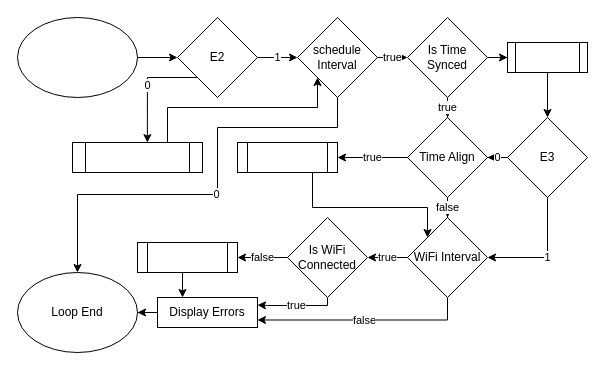
Some shapes in this 605 by 370 pixel diagram are drawn without their labels. Each missing label, with the centre of its shape:
Connect WiFi: the point at 187,257
handle server events: the point at 137,157
Loop Start: the point at 77,57
TIme Sync: the point at 547,57
Trigger Event: the point at 287,157
